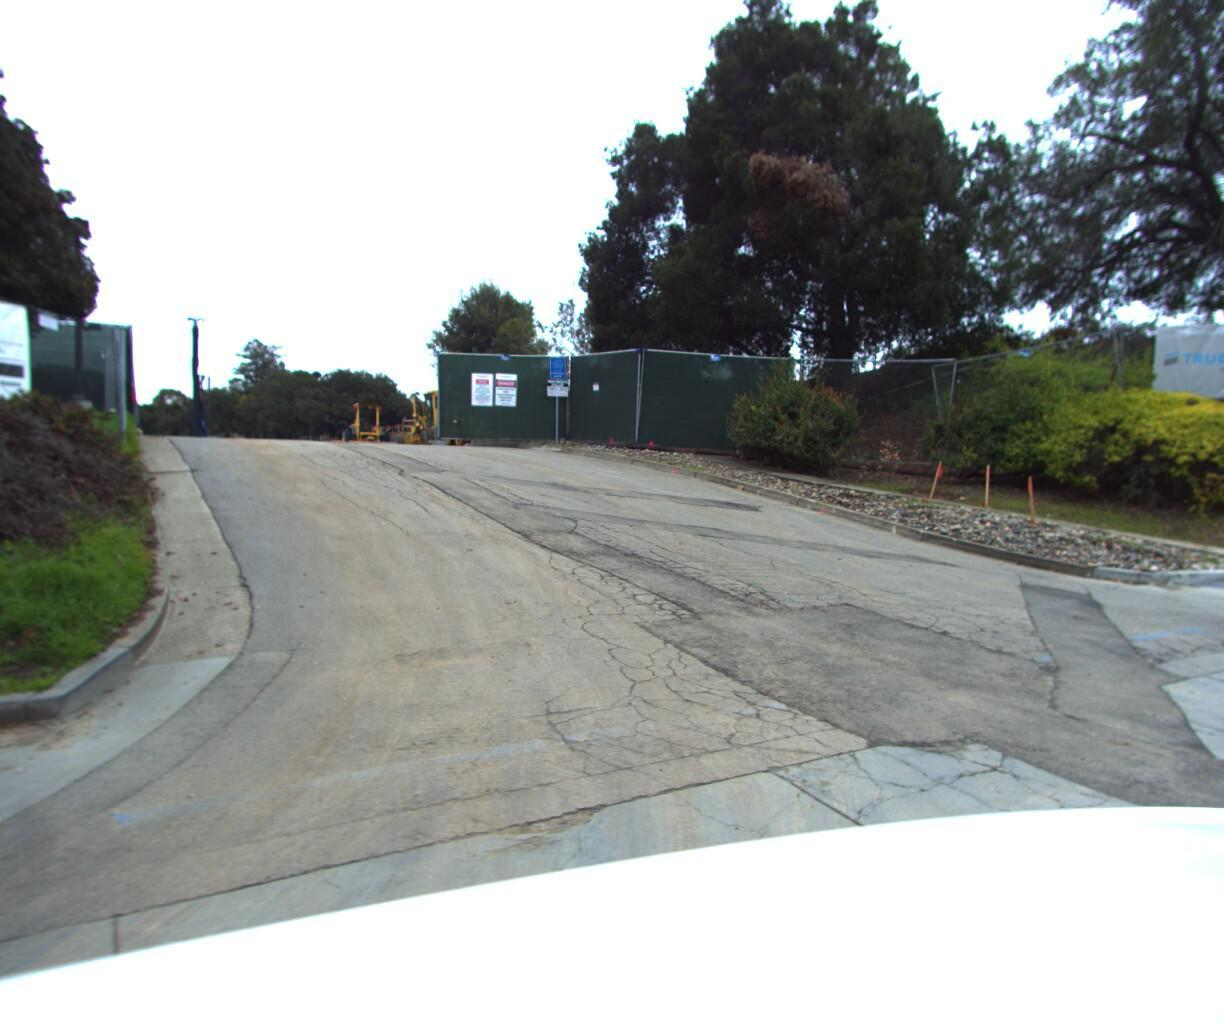other_vehicle: (384, 374, 499, 456), (336, 391, 397, 453)
